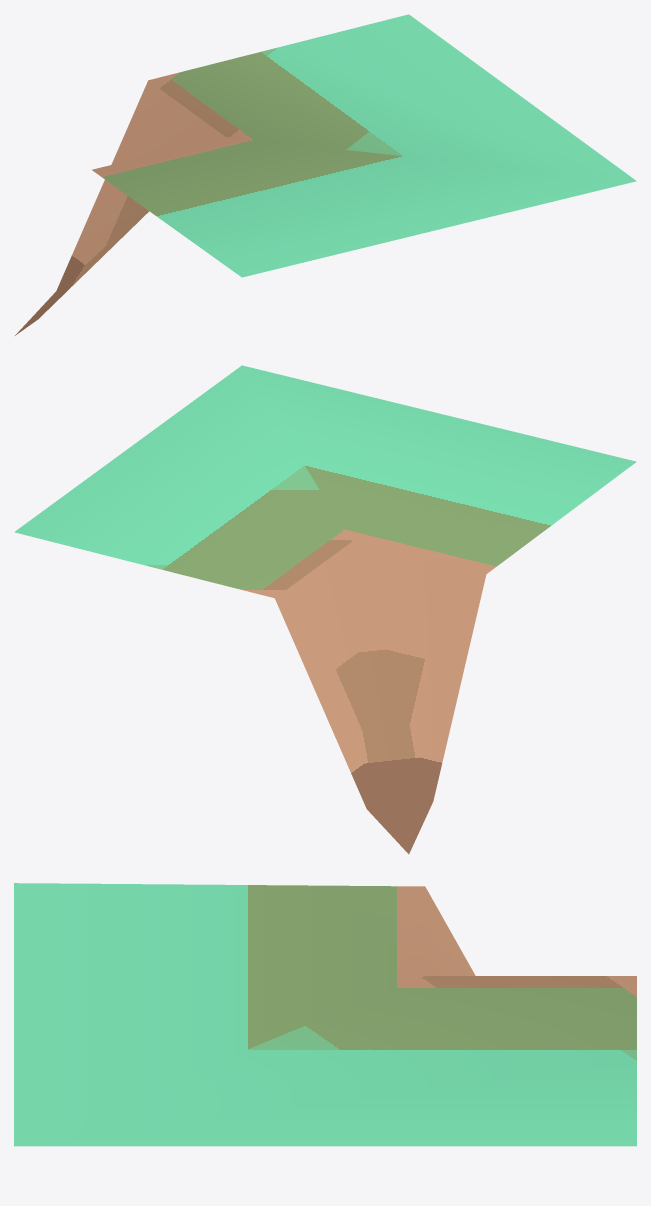
3 renders of one model, top to bottom at view 1: azimuth 30°, elevation 25°; view 2: azimuth 150°, elevation 25°; view 3: azimuth 270°, elevation 25°, orthographic. The views are drawn at different scales.
Bounding box in the file's own units: 0.5 × 0.2734 × 0.5.
2 materials, 2 textured.
